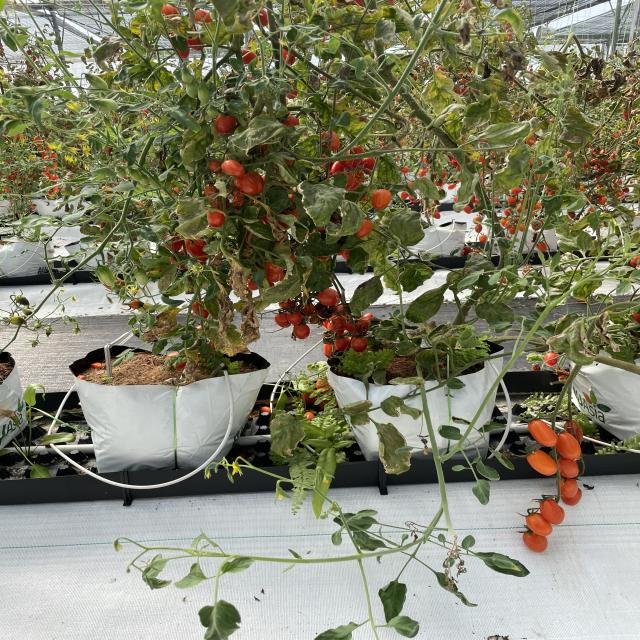Soilbag: (76, 342, 265, 477), (328, 347, 500, 469), (568, 340, 640, 448)
plant: (53, 39, 280, 341), (313, 61, 513, 347)
